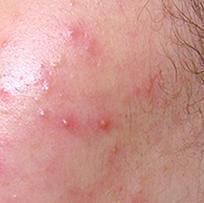purulent: (57, 110, 79, 143), (97, 110, 116, 145), (30, 104, 51, 130), (64, 16, 80, 49)
whitehead: (30, 51, 72, 81)
